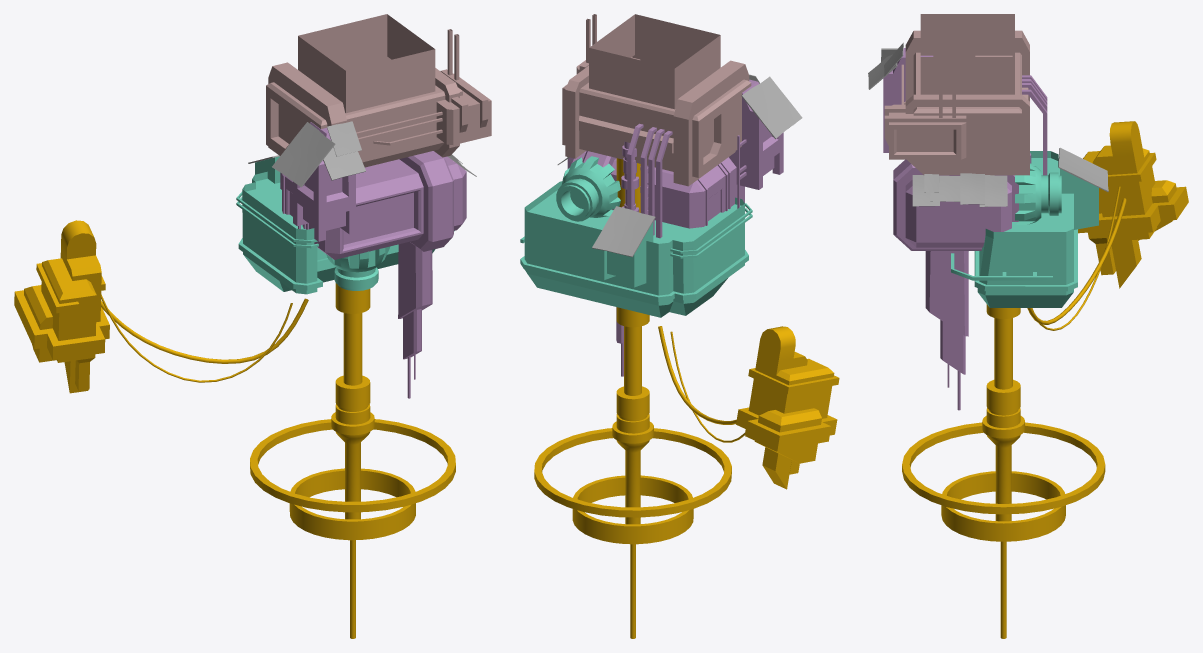
File: SpacialBar_Complete_ST.fbx
3 renders of one model, left to right at view 1: azimuth 30°, elevation 25°; view 2: azimuth 150°, elevation 25°; view 3: azimuth 270°, elevation 25°, orthographic. The views are drawn at different scales.
Visible parts, largest first — view 1: Base (×3), Docked_Extent, Main_Column, Ring_02, Ring_01, Tuiles, Extent_02, Extent_01, Wires, Reactor_Down, Bars, Barre_02; view 2: Base (×3), Docked_Extent, Main_Column, Ring_02, Ring_01, Tuiles, Bars (×2), Reactor_Main, Extent_02, Extent_03, Wires, Pipe_big; view 3: Base (×3), Docked_Extent, Main_Column, Tuiles, Ring_02, Ring_01, Extent_01, Reactor_Main, Extent_03, Wires, Extent_02, Bars (+1 smaller).
Boxes of the visible parts, left/top/right/bottom form: Base (×3): left=238, top=14, right=466, bottom=398; Docked_Extent: left=14, top=220, right=109, bottom=393; Main_Column: left=331, top=283, right=374, bottom=638; Ring_02: left=289, top=468, right=415, bottom=540; Ring_01: left=250, top=419, right=455, bottom=512; Tuiles: left=248, top=121, right=476, bottom=187; Extent_02: left=293, top=122, right=355, bottom=241; Extent_01: left=436, top=69, right=491, bottom=145; Wires: left=101, top=294, right=308, bottom=382; Reactor_Down: left=326, top=246, right=390, bottom=290; Bars: left=236, top=191, right=318, bottom=248; Barre_02: left=356, top=111, right=442, bottom=141; Base (×3): left=520, top=14, right=751, bottom=376; Docked_Extent: left=736, top=326, right=839, bottom=489; Main_Column: left=612, top=158, right=653, bottom=638; Ring_02: left=572, top=475, right=693, bottom=544; Ring_01: left=534, top=428, right=731, bottom=517; Tuiles: left=557, top=74, right=802, bottom=257; Bars (×2): left=627, top=123, right=752, bottom=258; Reactor_Main: left=556, top=156, right=620, bottom=221; Extent_02: left=729, top=79, right=783, bottom=189; Extent_03: left=598, top=222, right=653, bottom=287; Wires: left=658, top=326, right=744, bottom=442; Pipe_big: left=621, top=141, right=639, bottom=212; Base (×3): left=893, top=14, right=1077, bottom=410; Docked_Extent: left=1078, top=121, right=1188, bottom=288; Main_Column: left=982, top=304, right=1024, bottom=638; Tuiles: left=868, top=42, right=1108, bottom=207; Ring_02: left=941, top=471, right=1065, bottom=541; Ring_01: left=902, top=422, right=1105, bottom=514; Extent_01: left=884, top=104, right=966, bottom=159; Reactor_Main: left=1015, top=163, right=1061, bottom=224; Extent_03: left=1060, top=169, right=1098, bottom=229; Wires: left=1027, top=186, right=1126, bottom=330; Extent_02: left=883, top=48, right=933, bottom=152; Bars: left=1022, top=75, right=1047, bottom=175.
Bounding box in the file's own units: 37.51 × 61.58 × 29.84.
